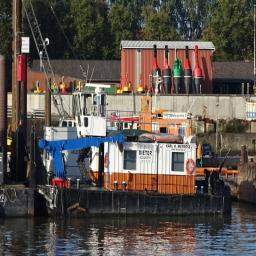tugboat: (38, 87, 237, 221)
